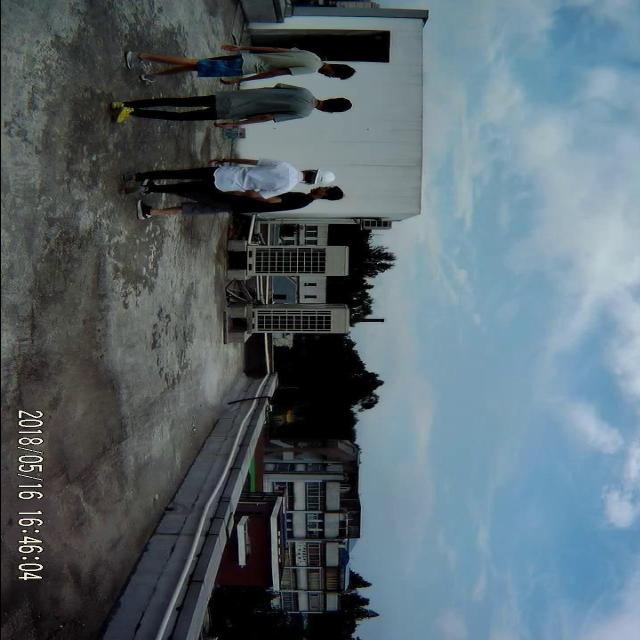helmet: (310, 166, 336, 190)
